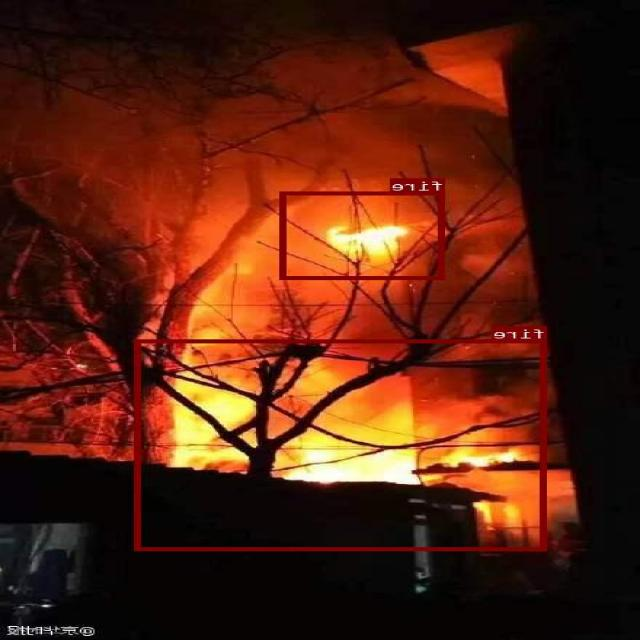fire: (137, 339, 547, 550), (281, 191, 446, 279)
